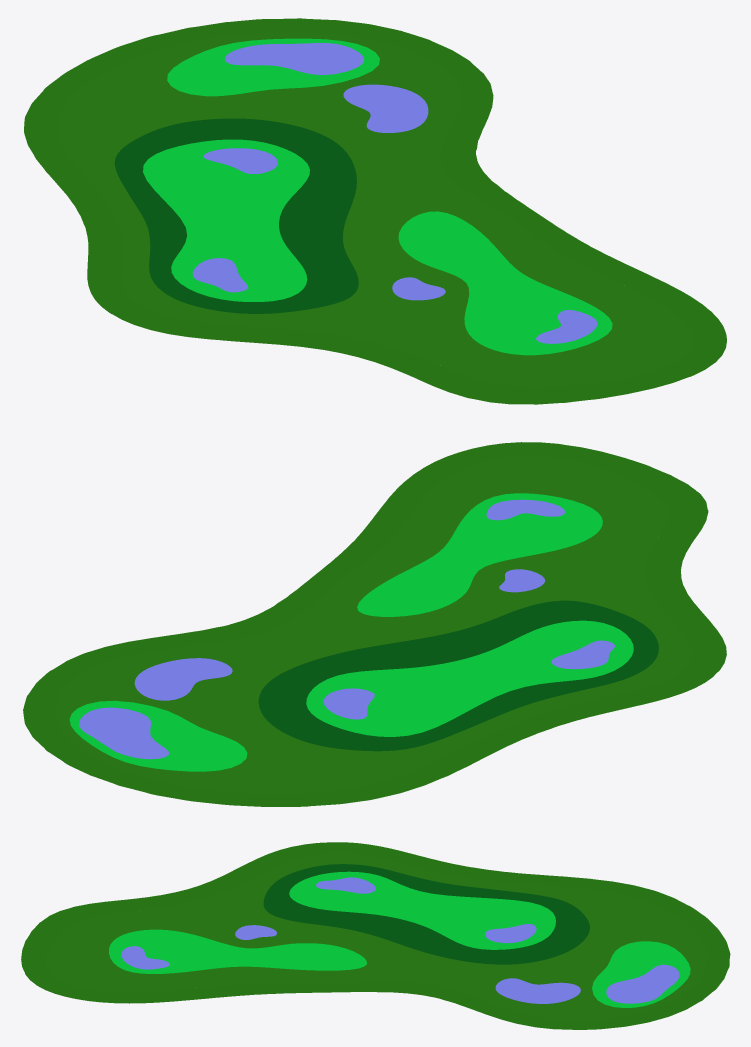
File: field-mesh.fbx
3 renders of one model, top to bottom at view 1: azimuth 30°, elevation 25°; view 2: azimuth 150°, elevation 25°; view 3: azimuth 270°, elevation 25°, orthographic. The views are drawn at different scales.
Parts seen in each view (by area): view 1: TIN, NurbsCurve.001, TIN.002, TIN.003, TIN.001, TIN.005, TIN.004; view 2: TIN, NurbsCurve.001, TIN.002, TIN.003, TIN.001, TIN.005, TIN.004; view 3: TIN, NurbsCurve.001, TIN.002, TIN.003, TIN.001, TIN.005, TIN.004.
Part boxes in pixels (left/top/right/bottom): TIN: left=58, top=32, right=692, bottom=386; NurbsCurve.001: left=24, top=18, right=726, bottom=404; TIN.002: left=114, top=118, right=358, bottom=313; TIN.003: left=143, top=139, right=309, bottom=301; TIN.001: left=398, top=211, right=612, bottom=355; TIN.005: left=192, top=42, right=597, bottom=343; TIN.004: left=167, top=38, right=379, bottom=96; TIN: left=55, top=455, right=691, bottom=794; NurbsCurve.001: left=23, top=442, right=726, bottom=806; TIN.002: left=258, top=600, right=658, bottom=751; TIN.003: left=306, top=620, right=633, bottom=736; TIN.001: left=357, top=493, right=602, bottom=616; TIN.005: left=79, top=499, right=614, bottom=759; TIN.004: left=69, top=700, right=247, bottom=771; TIN: left=46, top=853, right=707, bottom=1020; NurbsCurve.001: left=21, top=842, right=730, bottom=1029; TIN.002: left=263, top=864, right=589, bottom=964; TIN.003: left=289, top=871, right=555, bottom=949; TIN.001: left=109, top=929, right=366, bottom=973; TIN.005: left=121, top=877, right=679, bottom=1003; TIN.004: left=592, top=941, right=690, bottom=1007.
Bounding box in the file's own units: 168 × 4.32e-05 × 265.
